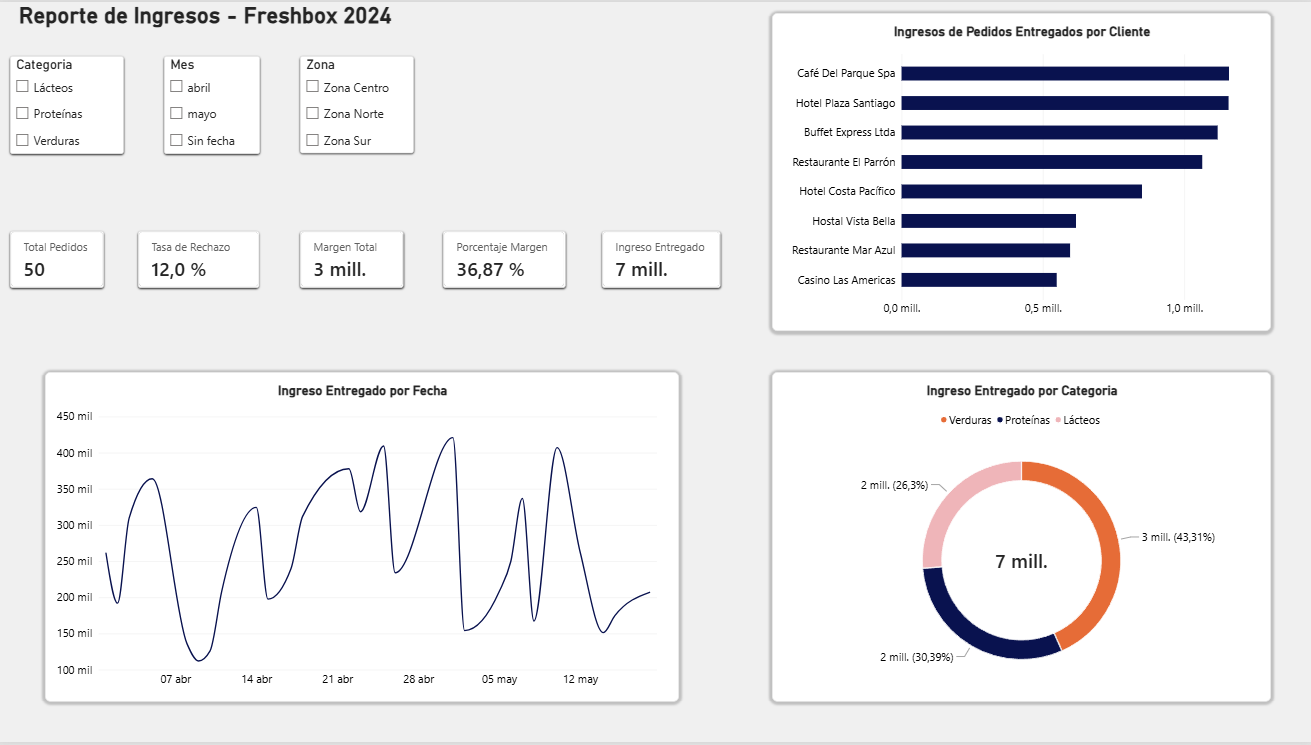

The dashboard page shown, as its layout file describes it:
{"tool":"powerbi","page":{"name":"Resumen Ejecutivo","canvas":[1920,1080],"ordinal":0},"visuals":[{"type":"cardVisual","fields":{"Data":["Tabla Maestra.Total Pedidos"]},"box":[19.4,333.8,137.1,82.8],"z":0},{"type":"cardVisual","fields":{"Data":["Pedidos.Margen_Total"]},"box":[442.5,333.8,151.4,82.8],"z":1000},{"type":"slicer","fields":{"Values":["Productos (2).Categoria"]},"box":[19,78.8,166.3,143],"z":2000},{"type":"slicer","fields":{"Values":["Clientes (2).Zona"]},"box":[442.5,78.9,165.6,142.3],"z":3000},{"type":"slicer","fields":{"Values":["Tabla Maestra.Mes"]},"box":[243.6,78.8,140.1,143],"z":4000},{"type":"cardVisual","fields":{"Data":["Pedidos.Ingreso Entregado"]},"box":[882.4,333.8,173.4,82.8],"z":5000},{"type":"cardVisual","fields":{"Data":["Pedidos.Porcentaje Margen"]},"box":[650.8,333.8,178.5,82.8],"z":6000},{"type":"cardVisual","fields":{"Data":["Pedidos.Tasa de Rechazo"]},"box":[205.7,333.8,177.3,82.8],"z":7000},{"type":"barChart","title":"Ingresos de Pedidos Entregados por Cliente","fields":{"Y":["Pedidos.Ingreso Entregado"],"Category":["Clientes (2).Nombre"]},"box":[1130.7,16,728,464],"z":8000},{"type":"donutChart","fields":{"Category":["Productos (2).Categoria"],"Y":["Pedidos.Ingreso Entregado"]},"box":[1130.8,539.5,728,481.5],"z":9000},{"type":"lineChart","fields":{"Y":["Pedidos.Ingreso Entregado"],"Category":["Pedidos.Fecha"]},"box":[69.9,539.5,925.1,481.3],"z":10000},{"type":"textbox","title":"Reporte de Ingresos - Freshbox 2024","box":[32.1,0,561.7,43.8],"z":11000}]}

Visuals, with their boxes in screenshot pixels (x1, y1, x2, y2), scaled from the page's 1920x1080 canvas onto the 1311x745 screenshot:
cardVisual - Tabla Maestra.Total Pedidos: 13,230,107,287
cardVisual - Pedidos.Margen_Total: 302,230,406,287
slicer - Productos (2).Categoria: 13,54,127,153
slicer - Clientes (2).Zona: 302,54,415,153
slicer - Tabla Maestra.Mes: 166,54,262,153
cardVisual - Pedidos.Ingreso Entregado: 603,230,721,287
cardVisual - Pedidos.Porcentaje Margen: 444,230,566,287
cardVisual - Pedidos.Tasa de Rechazo: 140,230,262,287
"Ingresos de Pedidos Entregados por Cliente" barChart: 772,11,1269,331
donutChart - Productos (2).Categoria x Pedidos.Ingreso Entregado: 772,372,1269,704
lineChart - Pedidos.Ingreso Entregado x Pedidos.Fecha: 48,372,679,704
"Reporte de Ingresos - Freshbox 2024" textbox: 22,0,405,30
